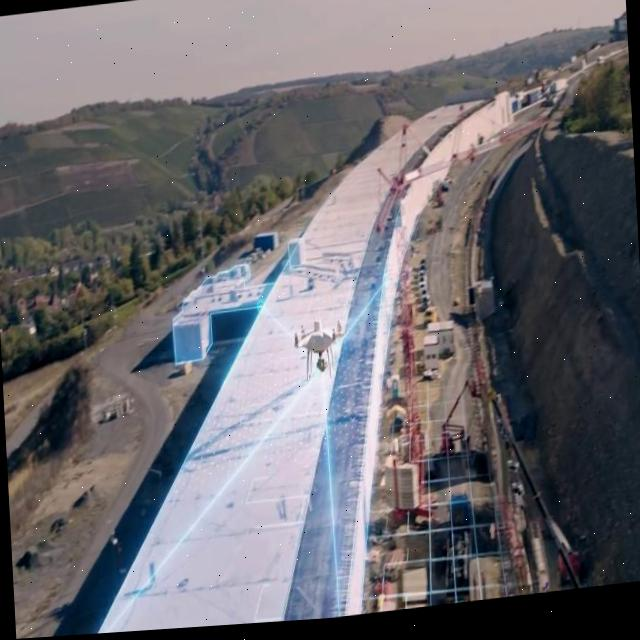drone: (290, 316, 348, 386)
